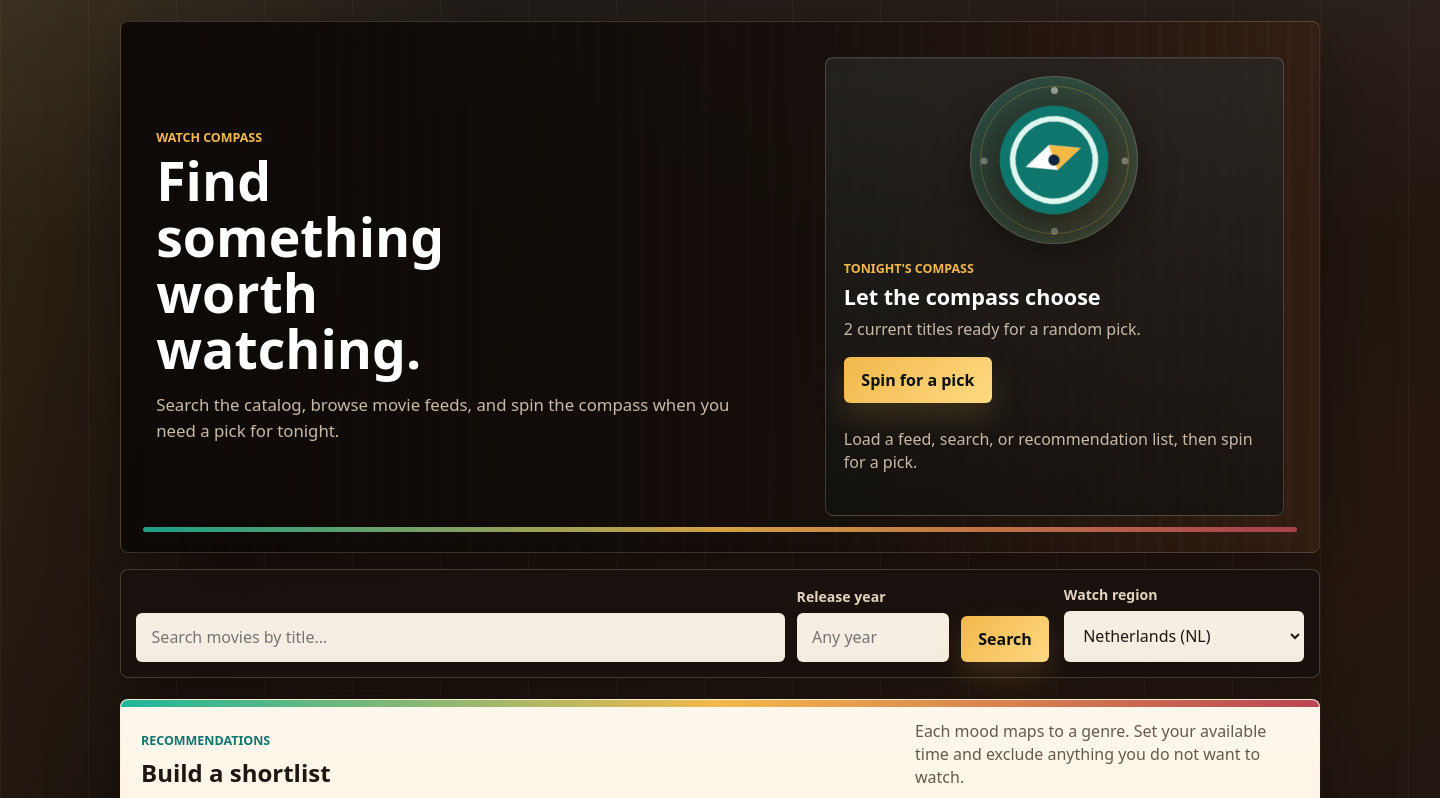
Test: App › loads genre discovery results and paginates them
This screenshot has width=1440, height=798.
Step 1. Type "2007" into the number field labelled "Release year" → (873, 637), box top-left (797, 613), bottom-right (949, 662)
(page scrolled)
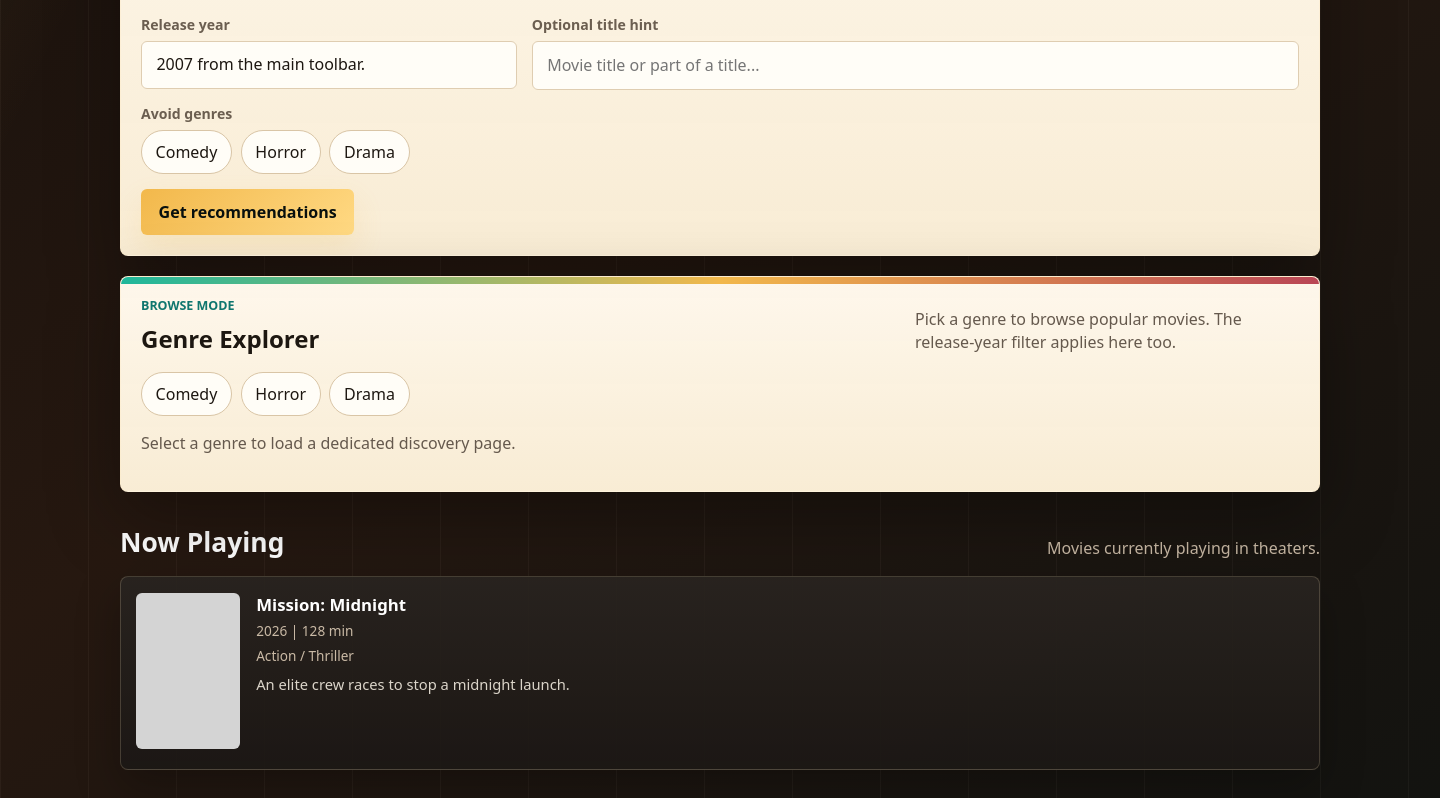
Step 2. Click the button with aria-label "Browse genre Comedy" → (186, 394), box top-left (141, 372), bottom-right (232, 416)
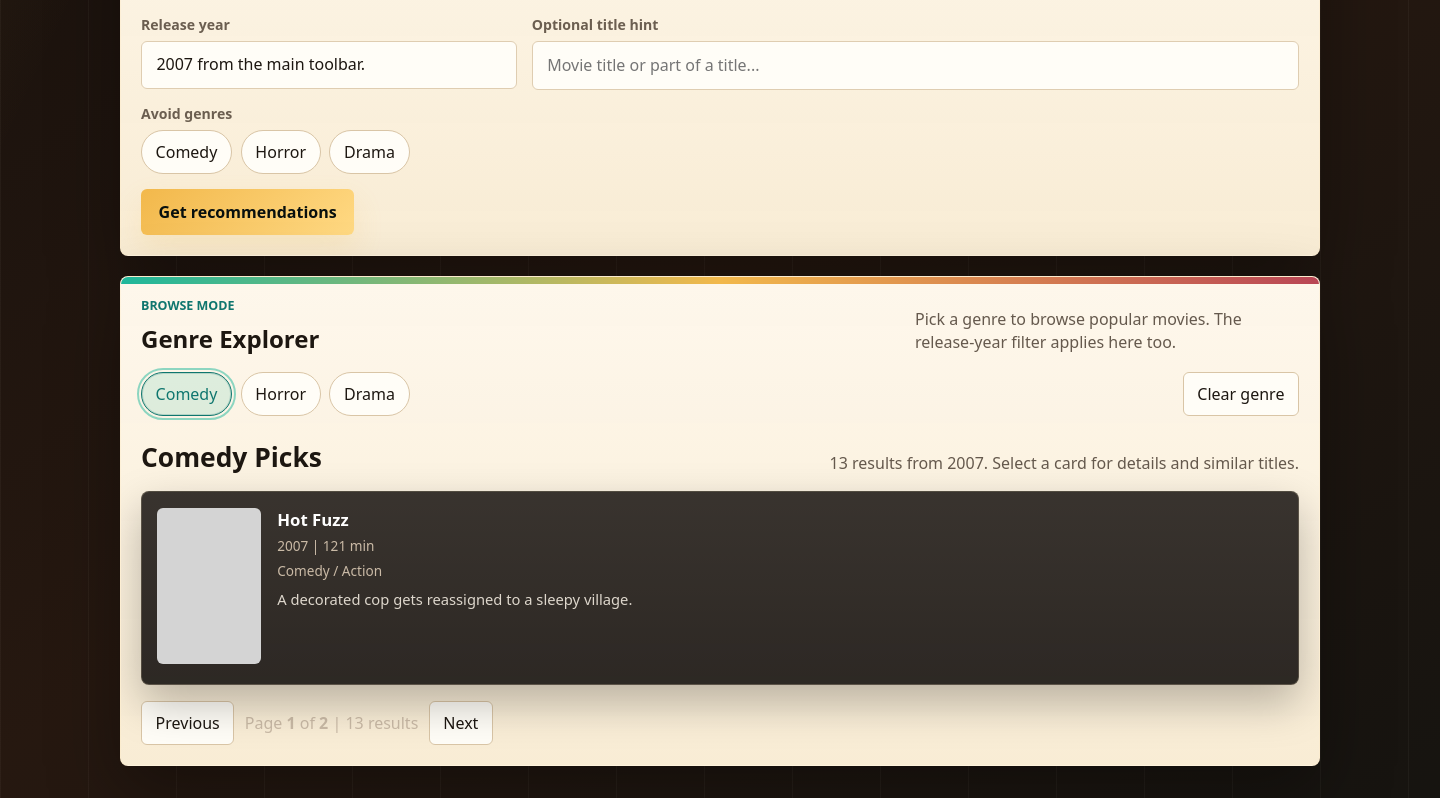
Result: the heading "Comedy Picks" is shown at top-left (141, 439), bottom-right (322, 475)
Result: the heading "Hot Fuzz" is shown at top-left (277, 508), bottom-right (349, 531)
Result: the text "13 results from 2007. Select a card for details and similar titles." is shown at top-left (830, 452), bottom-right (1299, 475)
Step 3. Click the button "Next" → (461, 723), box top-left (429, 701), bottom-right (493, 745)
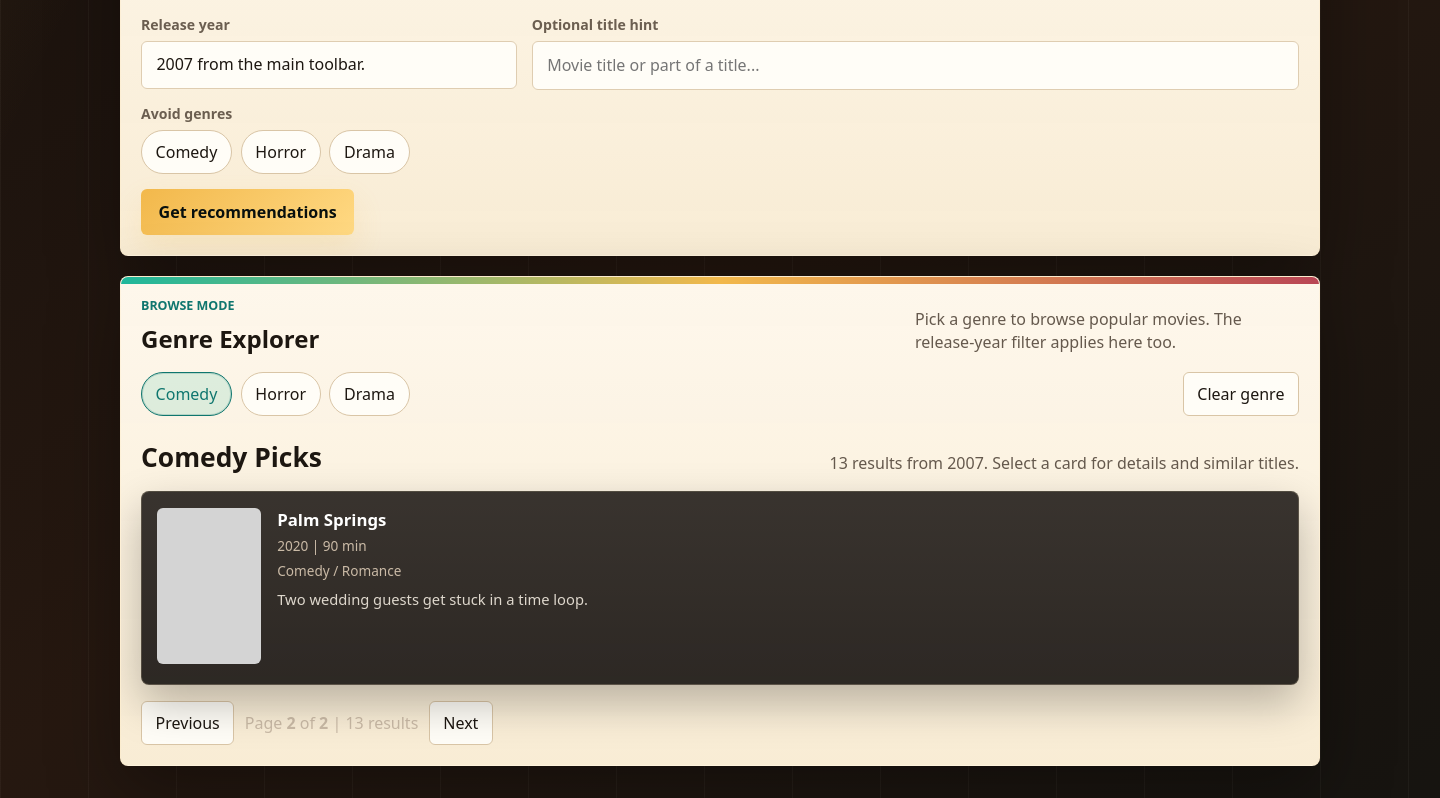
Result: the heading "Palm Springs" is shown at top-left (277, 508), bottom-right (386, 531)
